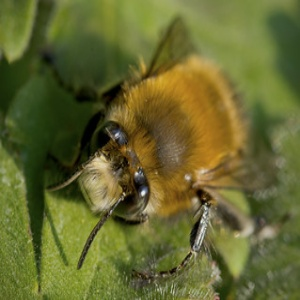bee: (65, 52, 244, 224)
